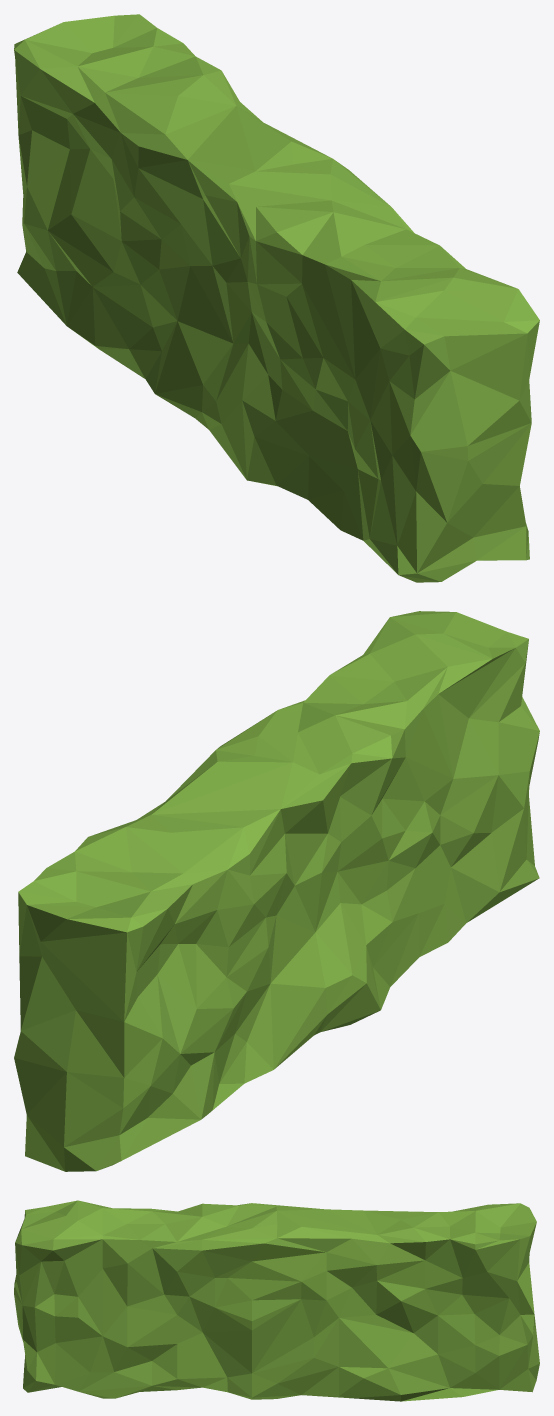
The model's file is Bush3.fbx.
3 renders of one model, top to bottom at view 1: azimuth 30°, elevation 25°; view 2: azimuth 150°, elevation 25°; view 3: azimuth 270°, elevation 25°, orthographic. The views are drawn at different scales.
Visible parts, largest first — view 1: Bush3; view 2: Bush3; view 3: Bush3.
Boxes of the visible parts, x1,y1,x2,y2 form: Bush3: (14,14,539,582); Bush3: (14,611,539,1171); Bush3: (14,1200,539,1401).
Size of the model in its own units: 61.95 by 108 by 304.
